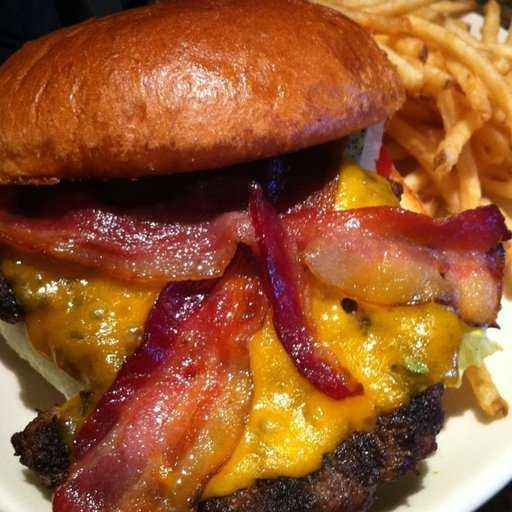hamburger: (2, 1, 482, 487)
